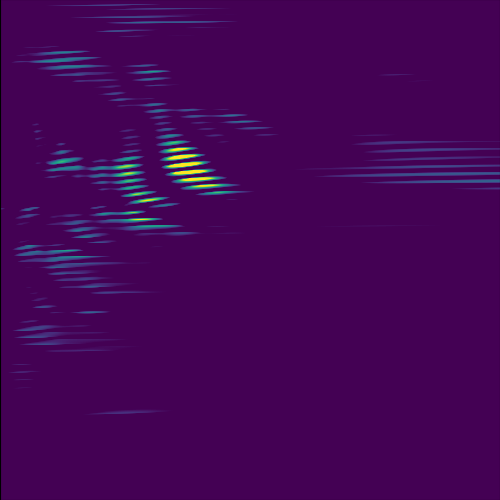semblance: (154, 143, 232, 197)
